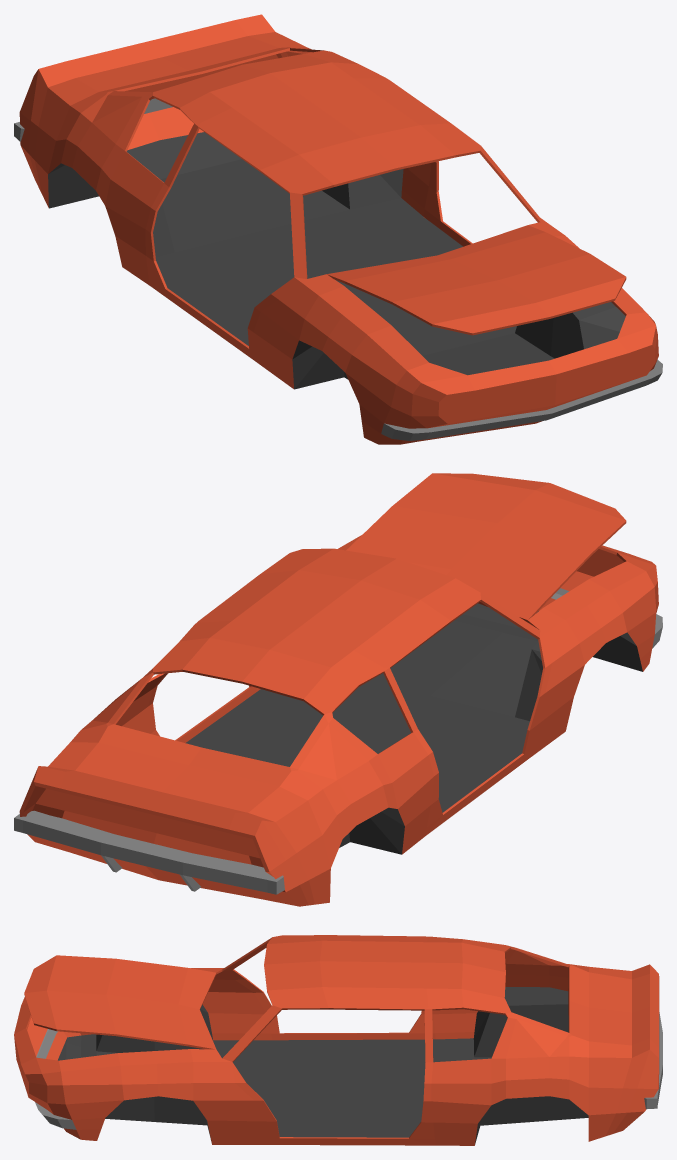
The model's file is MM_Level1_RuinedCar.fbx.
3 views of the same model, one above another, from view 1: azimuth 30°, elevation 25°; view 2: azimuth 150°, elevation 25°; view 3: azimuth 270°, elevation 25° (orthographic). The views are drawn at different scales.
Parts seen in each view (by area): view 1: Destroyed Car; view 2: Destroyed Car; view 3: Destroyed Car.
Part boxes in pixels (x1,y1,x2,y2): Destroyed Car: (14,14,662,444); Destroyed Car: (14,473,662,906); Destroyed Car: (14,935,662,1145).
Bounding box in the file's own units: 440 × 242 × 1080.
